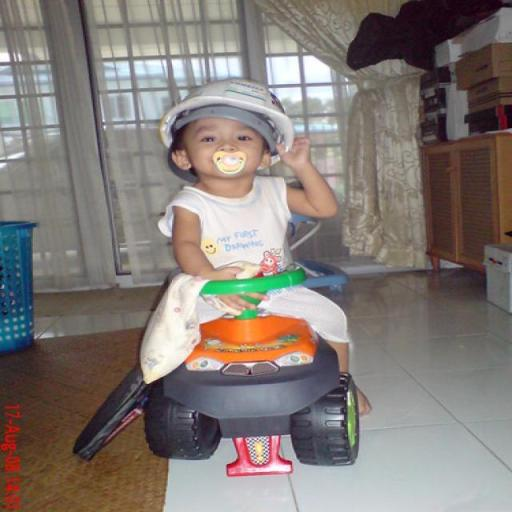helmet: (136, 66, 309, 155)
